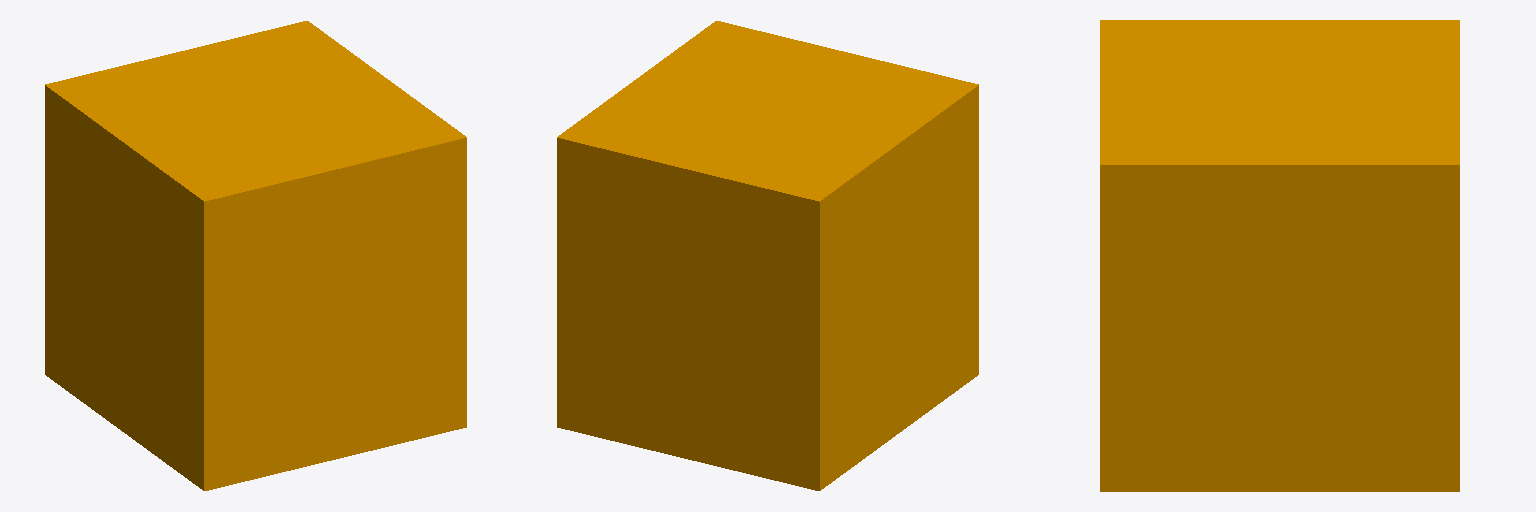
robot.urdf — object:
<robot name="object">
  <link name="object">
    <visual>
      <origin xyz="0 0 0" />
      <geometry>
        <box size="0.07600000000000001 0.08000000000000002 0.08" />
      </geometry>
    </visual>

    <collision>
      <origin xyz="0 0 0" />
      <geometry>
        <box size="0.07600000000000001 0.08000000000000002 0.08" />
      </geometry>
    </collision>

    <inertial>
      <mass value="0.05" />
      <inertia ixx="0.0001" ixy="0.0" ixz="0.0" iyy="0.0001" iyz="0.0" izz="0.0001" />
    </inertial>
  </link>
</robot>

--- What the picture shows (computed from the rendered views, not written in the file) ---
Views: 3 orthographic renders of the robot side by side, from view 1: azimuth 30°, elevation 25°; view 2: azimuth 150°, elevation 25°; view 3: azimuth 270°, elevation 25°.
Robot: object — 1 links, 0 joints (none); root link object; default pose: all joints at 0.
Links seen in each view (by area): view 1: object; view 2: object; view 3: object.
Boxes of the visible links, x1=… form: object: x1=45, y1=21, x2=466, y2=490; object: x1=557, y1=21, x2=978, y2=490; object: x1=1100, y1=20, x2=1459, y2=491.
Bounding box of the posed robot: 0.076 × 0.08 × 0.08 m (x, y, z).
Geometry: primitives only (box / cylinder / sphere), no mesh files.